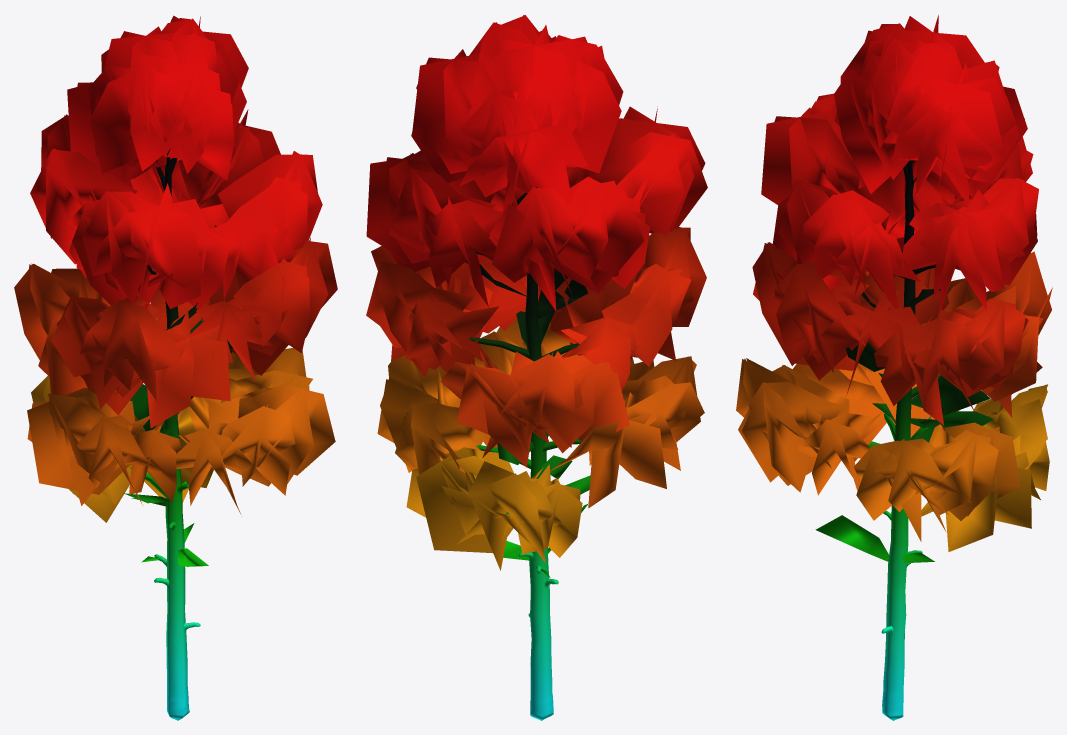
Rendered from RedPine3.fbx.
3 views of the same model, side by side, from view 1: azimuth 30°, elevation 25°; view 2: azimuth 150°, elevation 25°; view 3: azimuth 270°, elevation 25° (orthographic). The views are drawn at different scales.
Visible parts, largest first — view 1: RedPine3_LOD0; view 2: RedPine3_LOD0; view 3: RedPine3_LOD0.
Boxes of the visible parts, bbox=[...] form: RedPine3_LOD0: bbox=[14, 15, 337, 720]; RedPine3_LOD0: bbox=[366, 15, 707, 720]; RedPine3_LOD0: bbox=[736, 15, 1052, 720].
Size of what is drawn, in the model's own units: 403 by 981 by 407.
